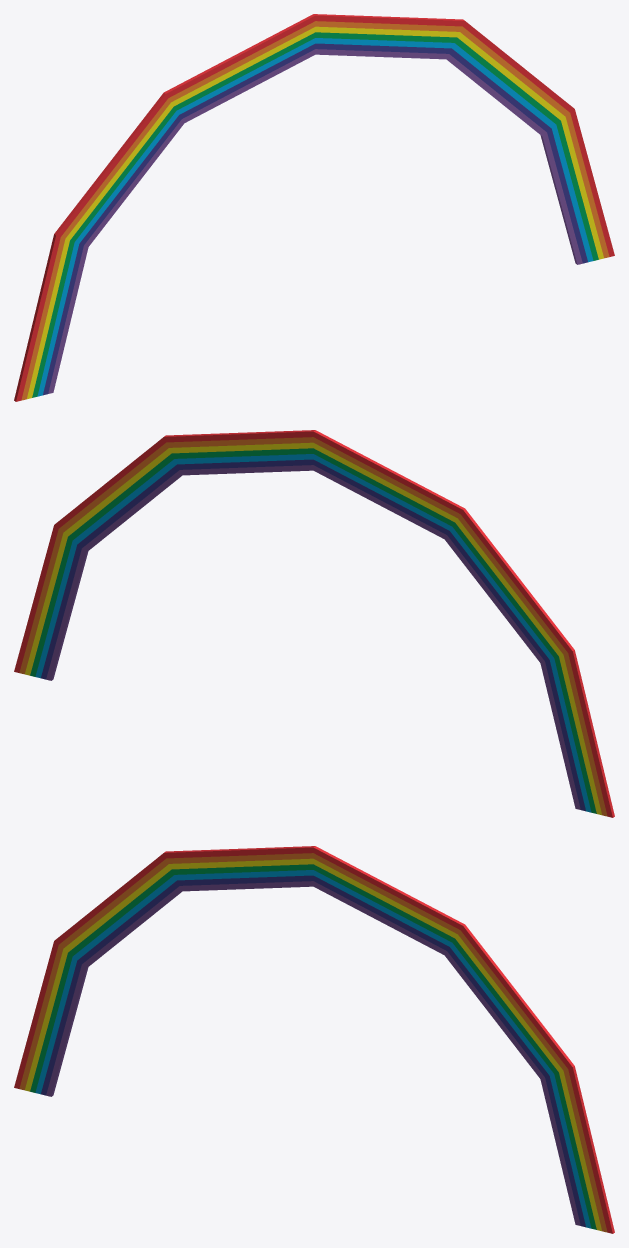
The picture shows the model from 3 angles, top to bottom: view 1: azimuth 30°, elevation 25°; view 2: azimuth 150°, elevation 25°; view 3: azimuth 330°, elevation 25°; orthographic projection.
Parts seen in each view (by area): view 1: Node; view 2: Node; view 3: Node.
Boxes of the visible parts, <box> form: Node: <box>14,14,614,401</box>; Node: <box>14,430,614,817</box>; Node: <box>14,846,614,1233</box>.
Bounding box in the file's own units: 8 × 4 × 0.0472.
